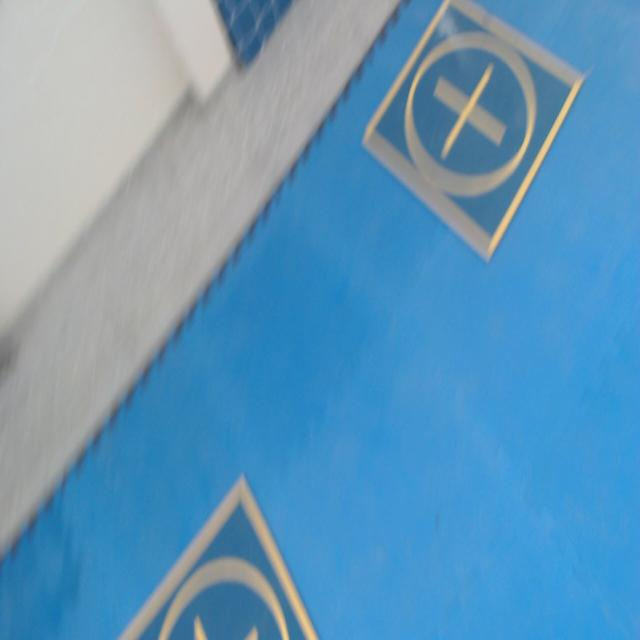base_pouso: (358, 0, 588, 265), (114, 471, 325, 639)
